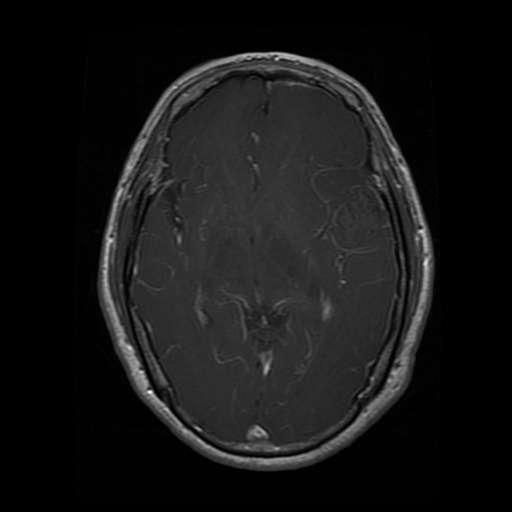glioma: (326, 182, 385, 253)
